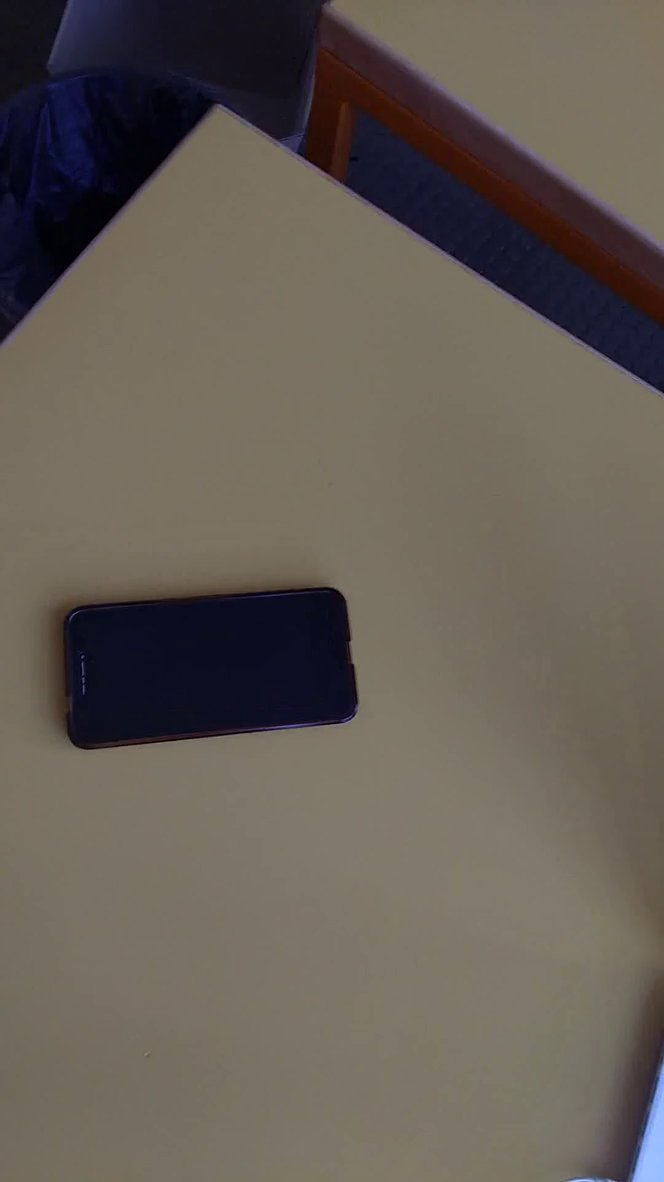phone: (49, 573, 381, 766)
